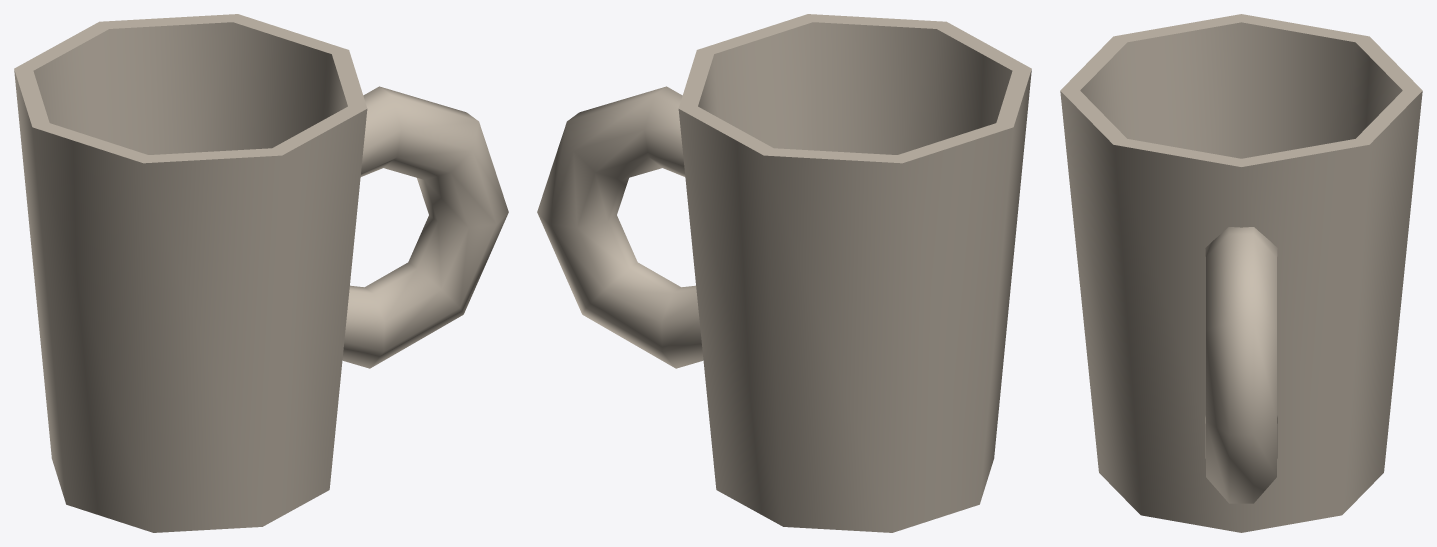
File: sercups_mug_002.glb
3 renders of one model, left to right at view 1: azimuth 30°, elevation 25°; view 2: azimuth 150°, elevation 25°; view 3: azimuth 270°, elevation 25°, orthographic.
Visible parts, largest first — view 1: sercups mug.002; view 2: sercups mug.002; view 3: sercups mug.002.
Part boxes in pixels (bbox=[...]): sercups mug.002: bbox=[14, 14, 508, 532]; sercups mug.002: bbox=[537, 14, 1031, 532]; sercups mug.002: bbox=[1060, 14, 1422, 532].
Bounding box in the file's own units: 2.97 × 2.35 × 2.
Materials: 1 (1 with a texture image).
